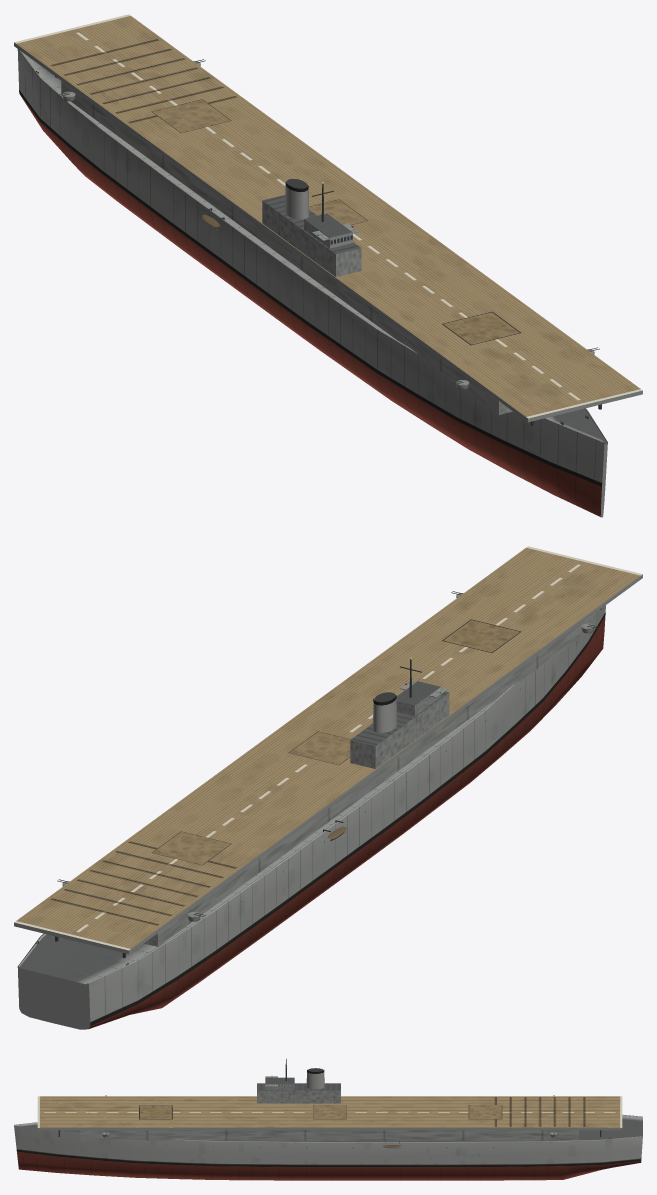
File: carrier.glb
3 views of the same model, one above another, from view 1: azimuth 30°, elevation 25°; view 2: azimuth 150°, elevation 25°; view 3: azimuth 270°, elevation 25° (orthographic). The views are drawn at different scales.
Visible parts, largest first — view 1: hull, ascenseur; view 2: hull, ascenseur; view 3: hull, ascenseur.
Part boxes in pixels (<box>): hull: <box>14,14,642,517</box>; ascenseur: <box>442,312,520,345</box>; hull: <box>14,546,642,1029</box>; ascenseur: <box>442,619,520,653</box>; hull: <box>14,1058,642,1180</box>; ascenseur: <box>139,1105,172,1119</box>.
Bounding box in the file's own units: 40.3 × 45.62 × 262.
7 materials, 6 textured.
